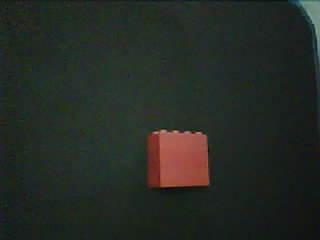lego: (146, 128, 211, 188)
